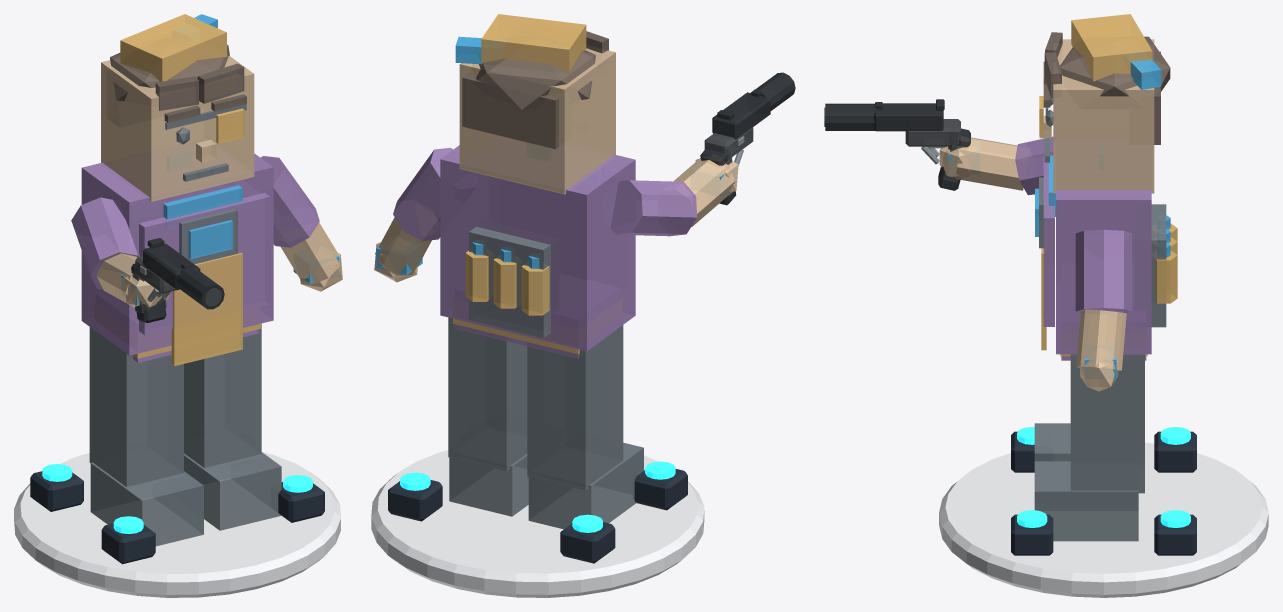
The model's file is FTF_Trap_FakePlayer_Trickster_M1911.glb.
3 views of the same model, side by side, from view 1: azimuth 30°, elevation 25°; view 2: azimuth 150°, elevation 25°; view 3: azimuth 270°, elevation 25° (orthographic).
Visible parts, largest first — view 1: TricksterFakePlayerGhostMesh, FakePlayerWhiteDiscBase, DecoyProjectionLampArray; view 2: TricksterFakePlayerGhostMesh, FakePlayerWhiteDiscBase, DecoyProjectionLampArray; view 3: TricksterFakePlayerGhostMesh, FakePlayerWhiteDiscBase, DecoyProjectionLampArray.
Boxes of the visible parts, box(x1,y1,x2,y2) form: TricksterFakePlayerGhostMesh: box(71, 14, 342, 546); FakePlayerWhiteDiscBase: box(14, 452, 340, 597); DecoyProjectionLampArray: box(30, 464, 324, 564); TricksterFakePlayerGhostMesh: box(374, 14, 795, 529); FakePlayerWhiteDiscBase: box(371, 450, 704, 597); DecoyProjectionLampArray: box(388, 461, 687, 563); TricksterFakePlayerGhostMesh: box(824, 14, 1177, 541); FakePlayerWhiteDiscBase: box(939, 442, 1268, 597); DecoyProjectionLampArray: box(1011, 427, 1196, 555).
Bounding box in the file's own units: 1.32 × 2.06 × 1.67.
